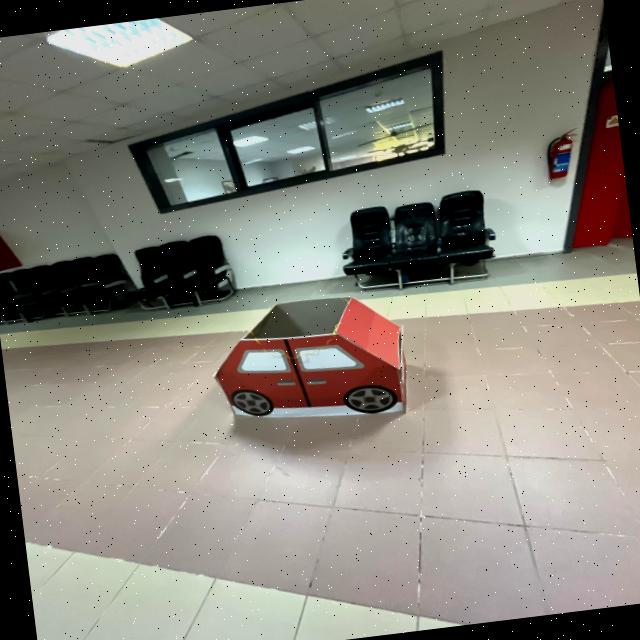red_car: (193, 276, 438, 468)
